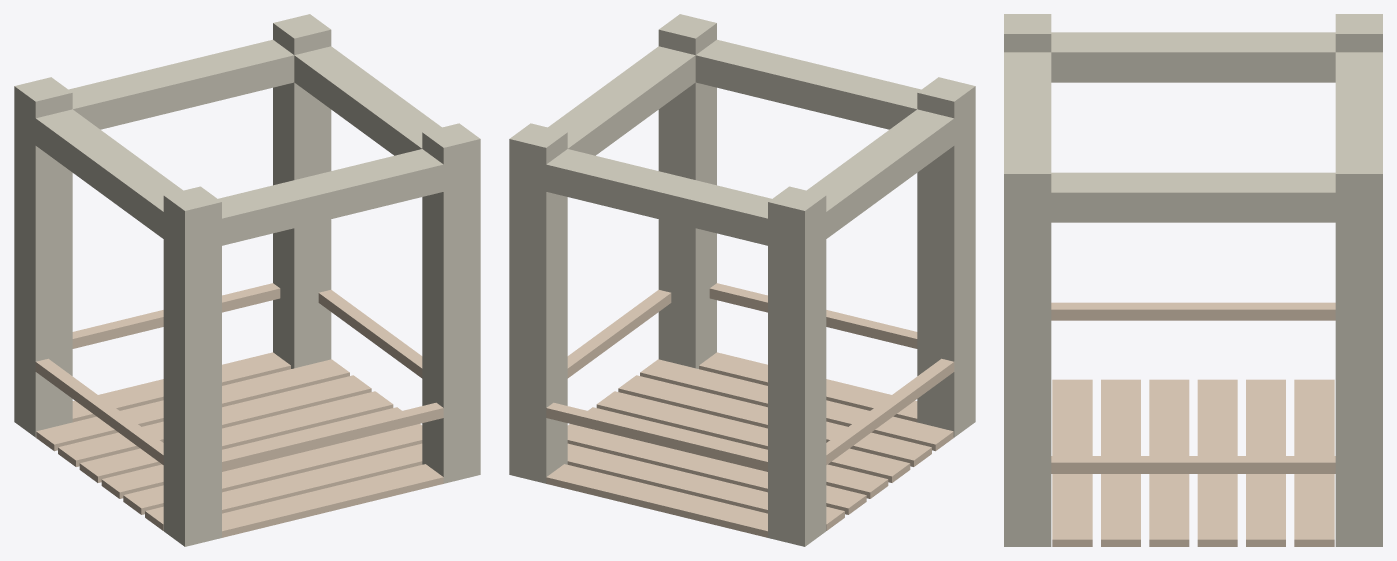
File: towerSquareMidOpen.fbx
The picture shows the model from 3 angles, left to right: view 1: azimuth 30°, elevation 25°; view 2: azimuth 150°, elevation 25°; view 3: azimuth 270°, elevation 25°; orthographic projection. The views are drawn at different scales.
Visible parts, largest first — view 1: towerSquareMidOpen, towerSquareMidOpen_cell.001, towerSquareMidOpen_cell.007, towerSquareMidOpen_cell.003, towerSquareMidOpen_cell.006, towerSquareMidOpen_cell.026, towerSquareMidOpen_cell.002, towerSquareMidOpen_cell.004, towerSquareMidOpen_cell.035, towerSquareMidOpen_cell.005, towerSquareMidOpen_cell.030, towerSquareMidOpen_cell.029 (+3 smaller); view 2: towerSquareMidOpen, towerSquareMidOpen_cell.007, towerSquareMidOpen_cell.001, towerSquareMidOpen_cell.006, towerSquareMidOpen_cell.003, towerSquareMidOpen_cell.023, towerSquareMidOpen_cell.035, towerSquareMidOpen_cell.022, towerSquareMidOpen_cell.004, towerSquareMidOpen_cell.026, towerSquareMidOpen_cell.005, towerSquareMidOpen_cell.002 (+3 smaller); view 3: towerSquareMidOpen, towerSquareMidOpen_cell.001, towerSquareMidOpen_cell.006, towerSquareMidOpen_cell.003, towerSquareMidOpen_cell.007, towerSquareMidOpen_cell.031, towerSquareMidOpen_cell.029, towerSquareMidOpen_cell.030, towerSquareMidOpen_cell.019, towerSquareMidOpen_cell.035, towerSquareMidOpen_cell.021, towerSquareMidOpen_cell.010 (+1 smaller).
Boxes of the visible parts, x1,y1,x2,y2 form: towerSquareMidOpen: [14, 14, 480, 546]; towerSquareMidOpen_cell.001: [93, 24, 480, 249]; towerSquareMidOpen_cell.007: [14, 86, 140, 399]; towerSquareMidOpen_cell.003: [106, 173, 371, 517]; towerSquareMidOpen_cell.006: [395, 306, 480, 495]; towerSquareMidOpen_cell.026: [222, 241, 331, 385]; towerSquareMidOpen_cell.002: [163, 484, 395, 546]; towerSquareMidOpen_cell.004: [14, 388, 92, 437]; towerSquareMidOpen_cell.035: [318, 293, 422, 378]; towerSquareMidOpen_cell.005: [72, 301, 229, 348]; towerSquareMidOpen_cell.030: [222, 375, 370, 427]; towerSquareMidOpen_cell.029: [226, 391, 392, 448]; towerSquareMidOpen: [509, 23, 975, 546]; towerSquareMidOpen_cell.007: [746, 152, 896, 504]; towerSquareMidOpen_cell.001: [549, 14, 815, 231]; towerSquareMidOpen_cell.006: [658, 127, 716, 368]; towerSquareMidOpen_cell.003: [896, 77, 975, 422]; towerSquareMidOpen_cell.023: [768, 327, 809, 525]; towerSquareMidOpen_cell.035: [567, 289, 671, 378]; towerSquareMidOpen_cell.022: [605, 482, 758, 533]; towerSquareMidOpen_cell.004: [749, 494, 826, 546]; towerSquareMidOpen_cell.026: [509, 352, 638, 482]; towerSquareMidOpen_cell.005: [591, 415, 766, 457]; towerSquareMidOpen_cell.002: [852, 385, 975, 436]; towerSquareMidOpen: [1004, 14, 1382, 546]; towerSquareMidOpen_cell.001: [1004, 108, 1382, 415]; towerSquareMidOpen_cell.006: [1004, 287, 1048, 546]; towerSquareMidOpen_cell.003: [1004, 14, 1183, 82]; towerSquareMidOpen_cell.007: [1180, 15, 1341, 58]; towerSquareMidOpen_cell.031: [1294, 474, 1334, 546]; towerSquareMidOpen_cell.029: [1197, 449, 1237, 545]; towerSquareMidOpen_cell.030: [1246, 474, 1285, 545]; towerSquareMidOpen_cell.019: [1051, 305, 1193, 320]; towerSquareMidOpen_cell.035: [1051, 456, 1335, 473]; towerSquareMidOpen_cell.021: [1294, 417, 1334, 476]; towerSquareMidOpen_cell.010: [1294, 379, 1334, 427].
Size of the model in its own units: 930 by 1010 by 930.
